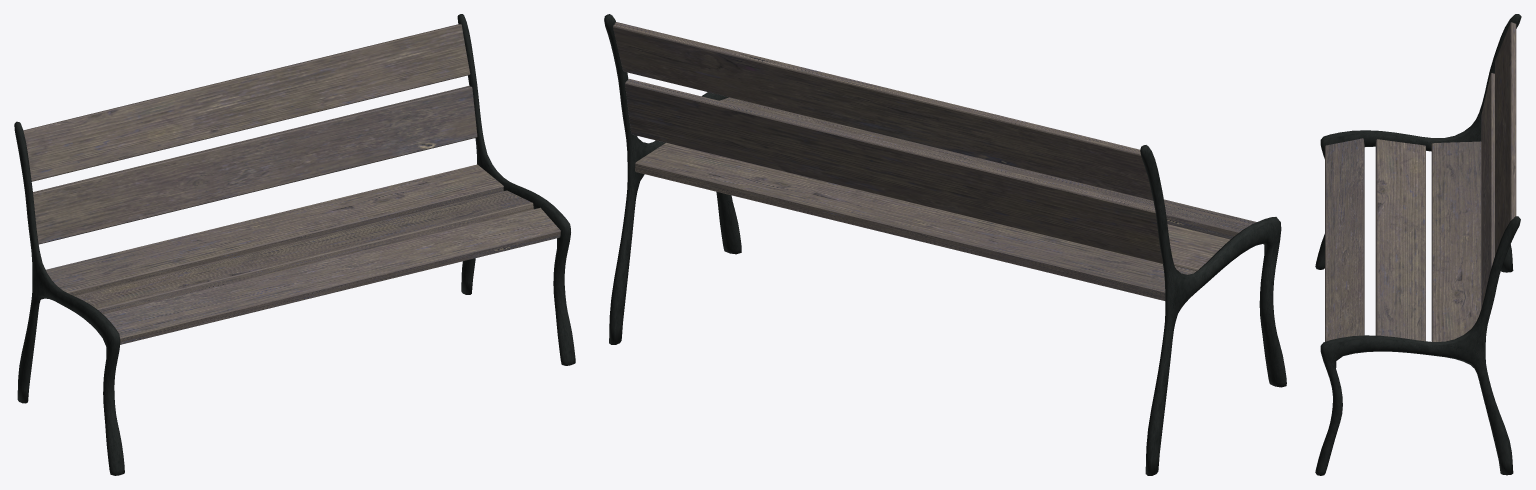
The model's file is Bench.glb.
3 views of the same model, side by side, from view 1: azimuth 30°, elevation 25°; view 2: azimuth 150°, elevation 25°; view 3: azimuth 270°, elevation 25° (orthographic). The views are drawn at different scales.
Visible parts, largest first — view 1: Cube.004; view 2: Cube.004; view 3: Cube.004.
Boxes of the visible parts, x1,y1,x2,y2 form: Cube.004: (14, 14, 575, 475); Cube.004: (604, 14, 1286, 475); Cube.004: (1315, 14, 1521, 475).
Bounding box in the file's own units: 1.63 × 0.9172 × 0.668.
Materials: 2 (2 with a texture image).
